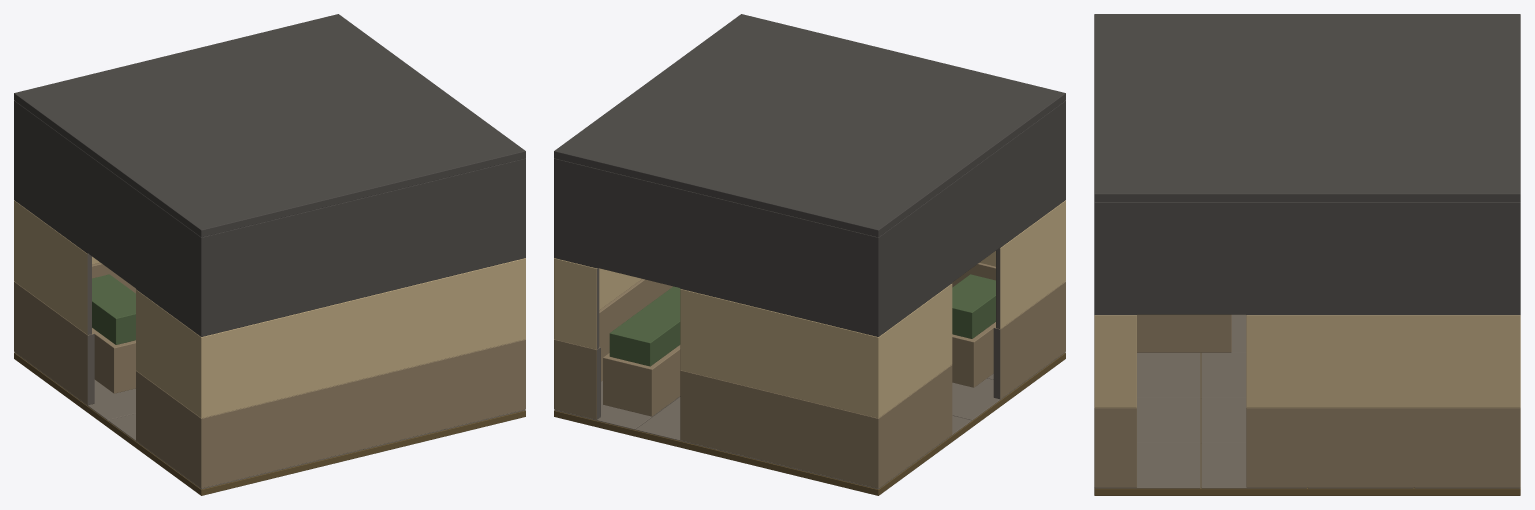
File: gen-garden.glb
The picture shows the model from 3 angles, left to right: view 1: azimuth 30°, elevation 25°; view 2: azimuth 150°, elevation 25°; view 3: azimuth 270°, elevation 25°; orthographic projection. The views are drawn at different scales.
Visible parts, largest first — view 1: THE GARDEN; view 2: THE GARDEN; view 3: THE GARDEN.
Part boxes in pixels (box(x1,y1,x2,y2)): THE GARDEN: box(14, 14, 525, 495); THE GARDEN: box(554, 14, 1065, 495); THE GARDEN: box(1094, 14, 1520, 495).
Bounding box in the file's own units: 4.6 × 3.6 × 4.6.
